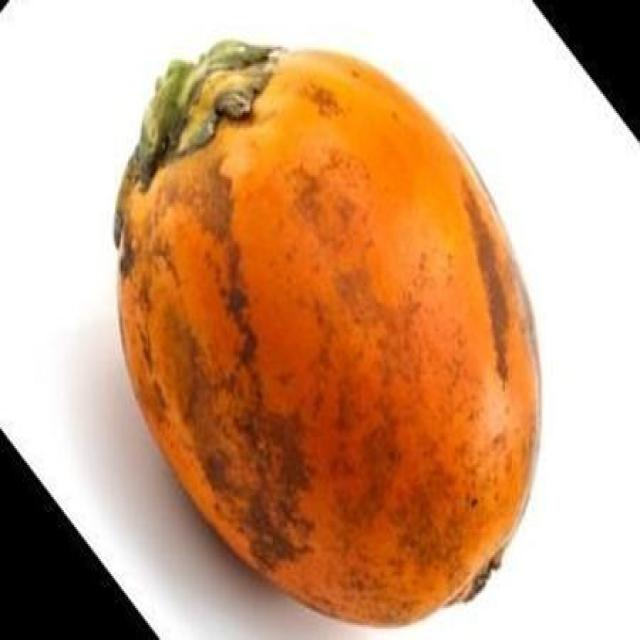good: (112, 40, 546, 629)
